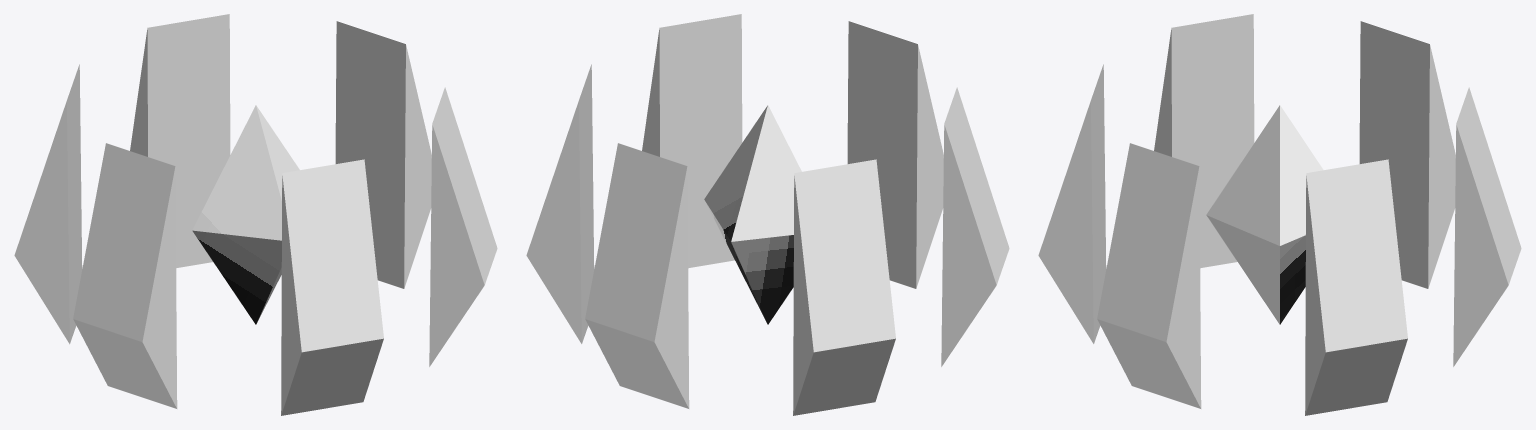
The model's file is resonatorResourceRing-LRes.obj.
3 views of the same model, side by side, from view 1: azimuth 30°, elevation 25°; view 2: azimuth 150°, elevation 25°; view 3: azimuth 270°, elevation 25° (orthographic).
Visible parts, largest first — view 1: polySurface2 casing_single ctrans0 casing group1 ctrans5 ctrans4, group1 xmcore; view 2: polySurface2 casing_single ctrans0 casing group1 ctrans5 ctrans4, group1 xmcore; view 3: polySurface2 casing_single ctrans0 casing group1 ctrans5 ctrans4, group1 xmcore.
Part boxes in pixels (x1,y1,x2,y2): polySurface2 casing_single ctrans0 casing group1 ctrans5 ctrans4: (14,14,497,415); group1 xmcore: (192,105,299,324); polySurface2 casing_single ctrans0 casing group1 ctrans5 ctrans4: (526,14,1009,415); group1 xmcore: (704,105,801,324); polySurface2 casing_single ctrans0 casing group1 ctrans5 ctrans4: (1038,14,1521,415); group1 xmcore: (1206,105,1323,324).
Size of the model in its own units: 0.6495 by 0.3678 by 0.6602.
1 material, 1 textured.
